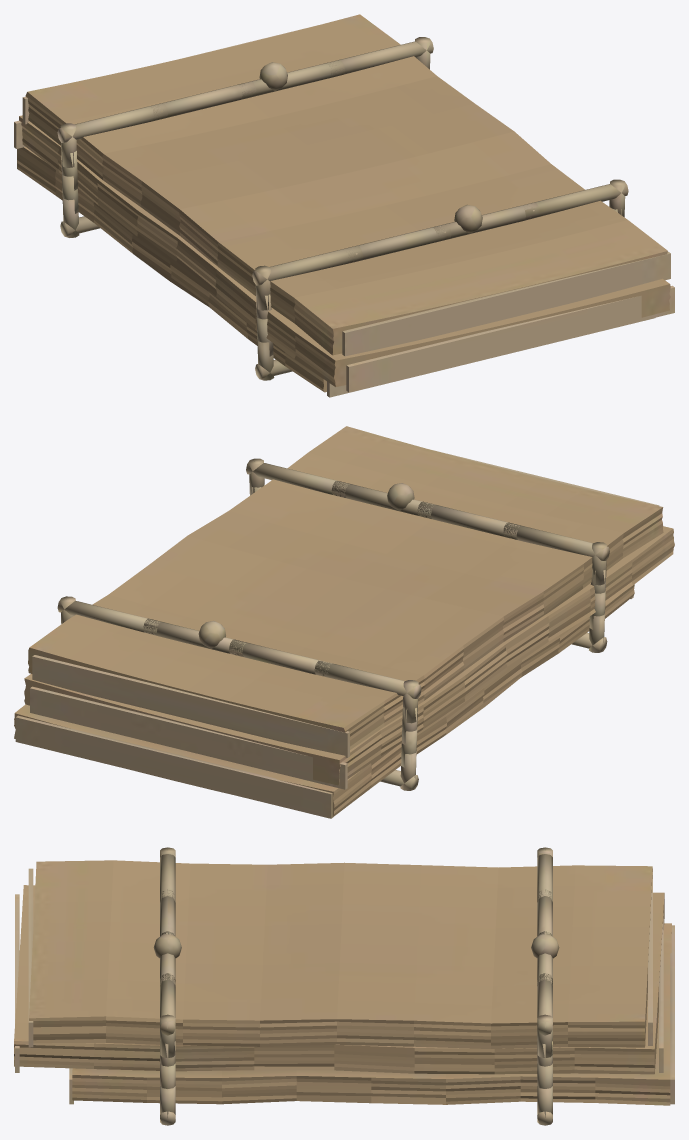
Rendered from tool_planks.glb.
3 views of the same model, one above another, from view 1: azimuth 30°, elevation 25°; view 2: azimuth 150°, elevation 25°; view 3: azimuth 270°, elevation 25° (orthographic). The views are drawn at different scales.
Parts seen in each view (by area): view 1: planks-body; view 2: planks-body; view 3: planks-body.
Part boxes in pixels (x1,y1,x2,y2): planks-body: (14, 14, 674, 397); planks-body: (14, 426, 674, 818); planks-body: (14, 847, 674, 1125).
Size of what is drawn, in the model's own units: 0.2623 by 0.0832 by 0.4203.
1 material, 1 textured.
